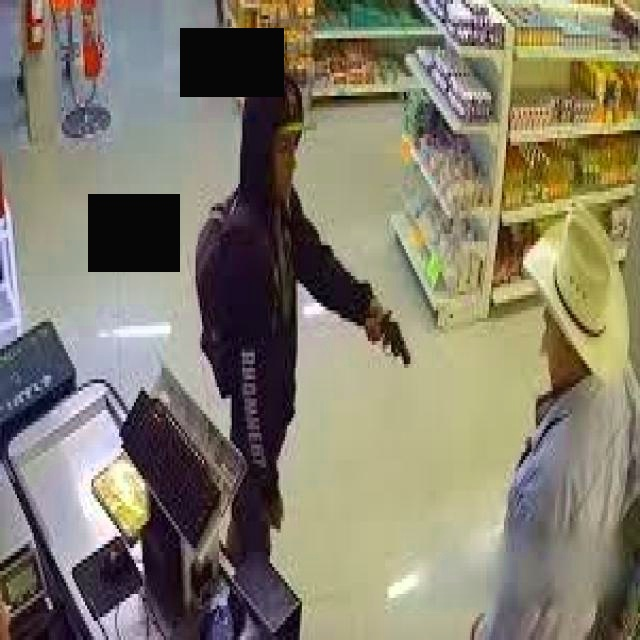gun: (359, 298, 418, 367)
